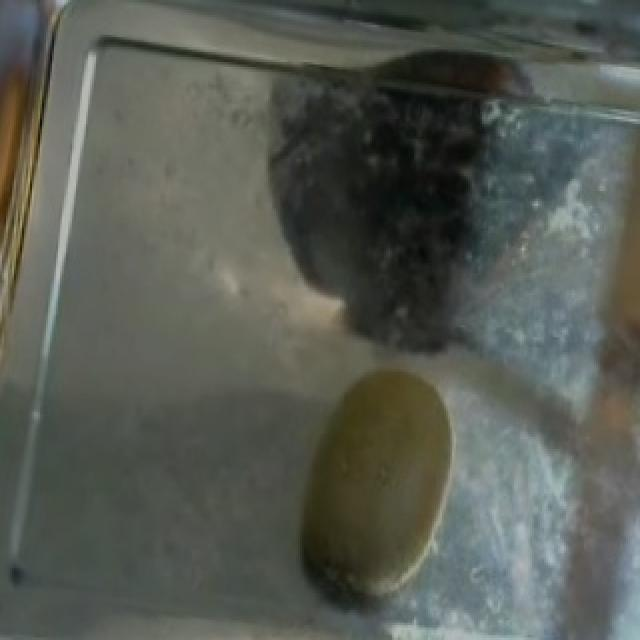Fruit: (268, 360, 476, 615)
